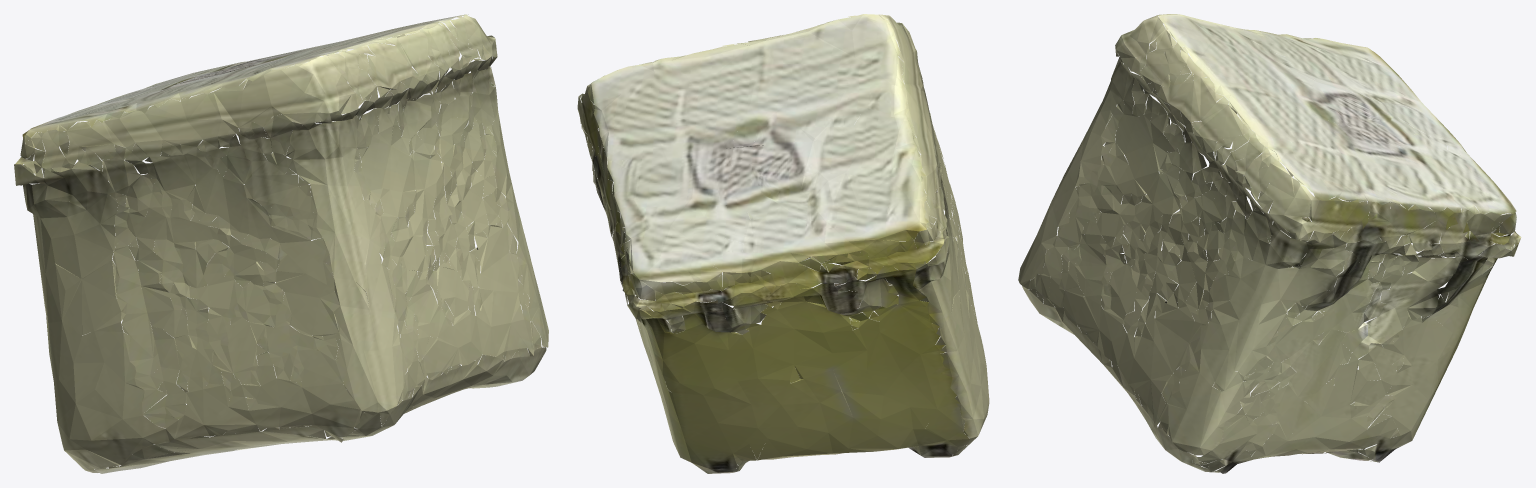
Rendered from crate.glb.
The picture shows the model from 3 angles, left to right: view 1: azimuth 30°, elevation 25°; view 2: azimuth 150°, elevation 25°; view 3: azimuth 270°, elevation 25°; orthographic projection. The views are drawn at different scales.
Parts seen in each view (by area): view 1: world; view 2: world; view 3: world.
Boxes of the visible parts, x1,y1,x2,y2 form: world: (14, 14, 548, 473); world: (577, 14, 989, 473); world: (1018, 14, 1521, 473).
Bounding box in the file's own units: 0.9133 × 0.8696 × 0.9792.
1 material, 1 textured.
